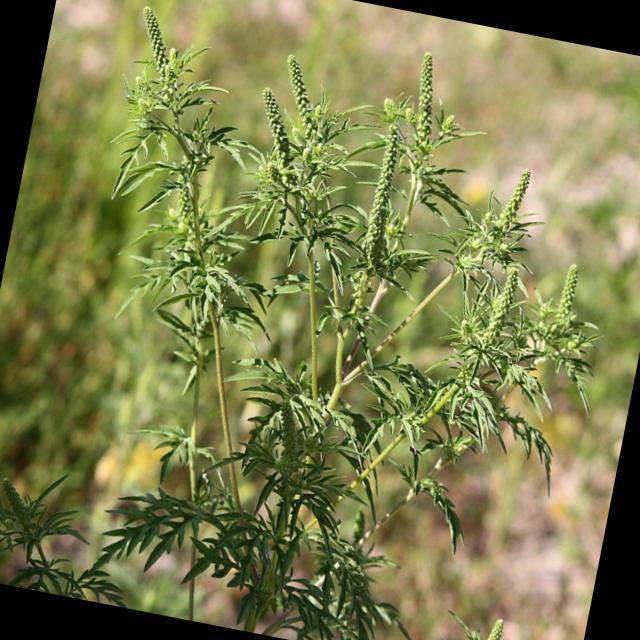ambrosia: (233, 36, 628, 315), (49, 0, 288, 406), (442, 158, 626, 434), (436, 576, 515, 640)
